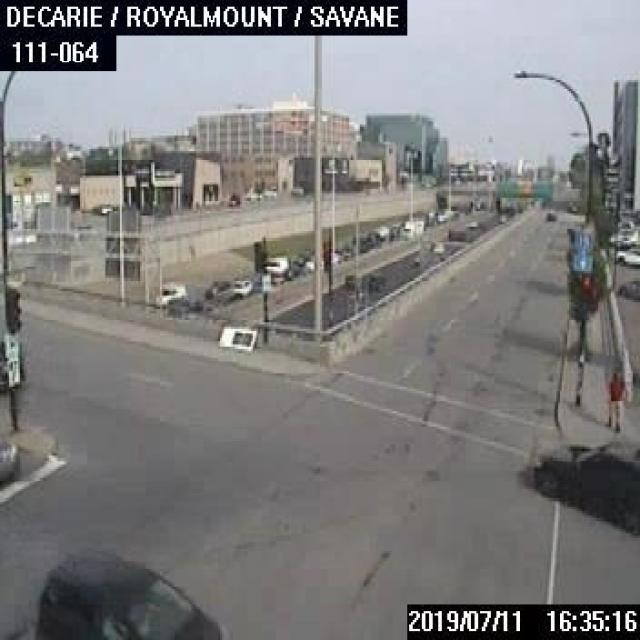pedestrian: (604, 365, 622, 431)
vehicle: (31, 546, 225, 638), (533, 442, 638, 534), (265, 249, 289, 275), (154, 281, 184, 301), (614, 246, 638, 264), (618, 276, 638, 296), (229, 277, 250, 295), (567, 200, 578, 210), (544, 208, 554, 218)
